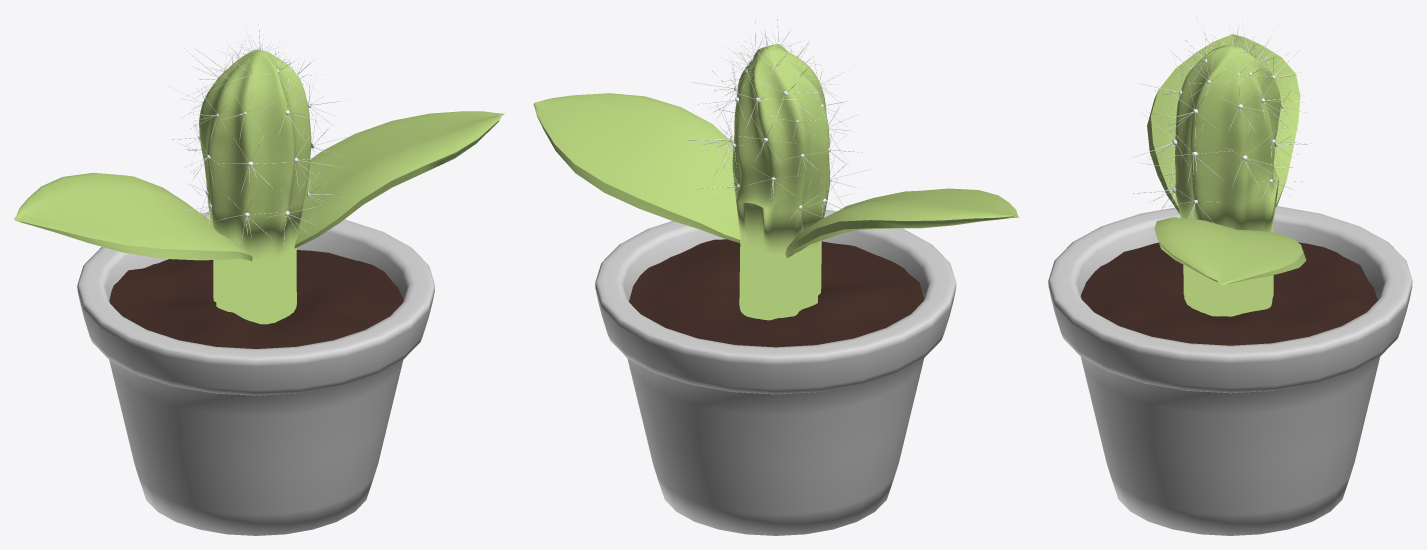
3 views of the same model, side by side, from view 1: azimuth 30°, elevation 25°; view 2: azimuth 150°, elevation 25°; view 3: azimuth 270°, elevation 25° (orthographic).
Parts seen in each view (by area): view 1: model:topf_topf_0, model7:kaktus_kaktus_0, model:erde_erde_0, pasted__pasted__pasted__pasted__pasted__pasted__Cube.001_lam, pasted__pasted__pasted__pasted__Cube.001, model8:stacheln_stacheln_0; view 2: model:topf_topf_0, model7:kaktus_kaktus_0, pasted__pasted__pasted__pasted__Cube.001, model:erde_erde_0, pasted__pasted__pasted__pasted__pasted__pasted__Cube.001_lam, model8:stacheln_stacheln_0; view 3: model:topf_topf_0, model7:kaktus_kaktus_0, model:erde_erde_0, pasted__pasted__pasted__pasted__Cube.001, pasted__pasted__pasted__pasted__pasted__pasted__Cube.001_lam, model8:stacheln_stacheln_0.
Boxes of the visible parts, <box> form: model:topf_topf_0: <box>77,212,435,535</box>; model7:kaktus_kaktus_0: <box>199,49,311,324</box>; model:erde_erde_0: <box>109,250,403,348</box>; pasted__pasted__pasted__pasted__pasted__pasted__Cube.001_lam: <box>14,172,252,261</box>; pasted__pasted__pasted__pasted__Cube.001: <box>294,111,504,248</box>; model8:stacheln_stacheln_0: <box>169,17,353,254</box>; model:topf_topf_0: <box>595,209,956,535</box>; model7:kaktus_kaktus_0: <box>732,44,829,320</box>; pasted__pasted__pasted__pasted__Cube.001: <box>533,93,740,242</box>; model:erde_erde_0: <box>629,239,923,347</box>; pasted__pasted__pasted__pasted__pasted__pasted__Cube.001_lam: <box>785,188,1019,257</box>; model8:stacheln_stacheln_0: <box>688,19,868,230</box>; model:topf_topf_0: <box>1048,206,1412,535</box>; model7:kaktus_kaktus_0: <box>1175,45,1280,316</box>; model:erde_erde_0: <box>1081,242,1377,345</box>; pasted__pasted__pasted__pasted__Cube.001: <box>1154,217,1306,285</box>; pasted__pasted__pasted__pasted__pasted__pasted__Cube.001_lam: <box>1147,34,1300,213</box>; model8:stacheln_stacheln_0: <box>1133,18,1311,222</box>.
Bounding box in the file's own units: 0.0703 × 0.0653 × 0.0449.
